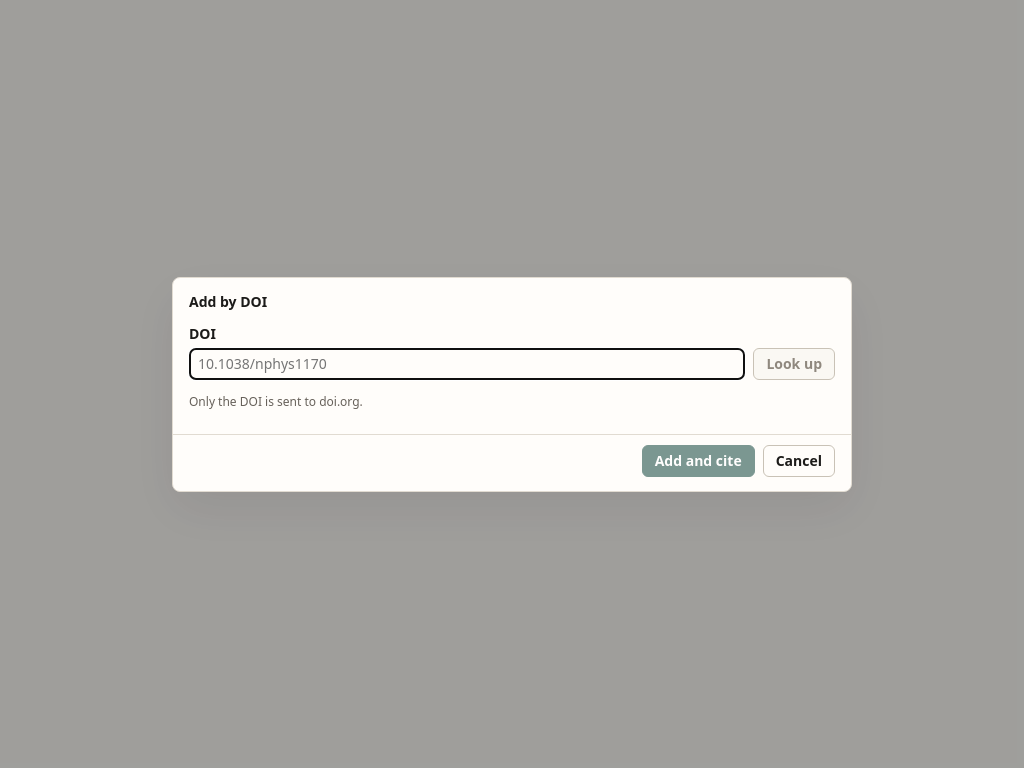
DoiDialog › shows lookup errors and adds nothing
In the field labelled "DOI": (467, 364) [189, 348, 745, 380], type "10.1/x"
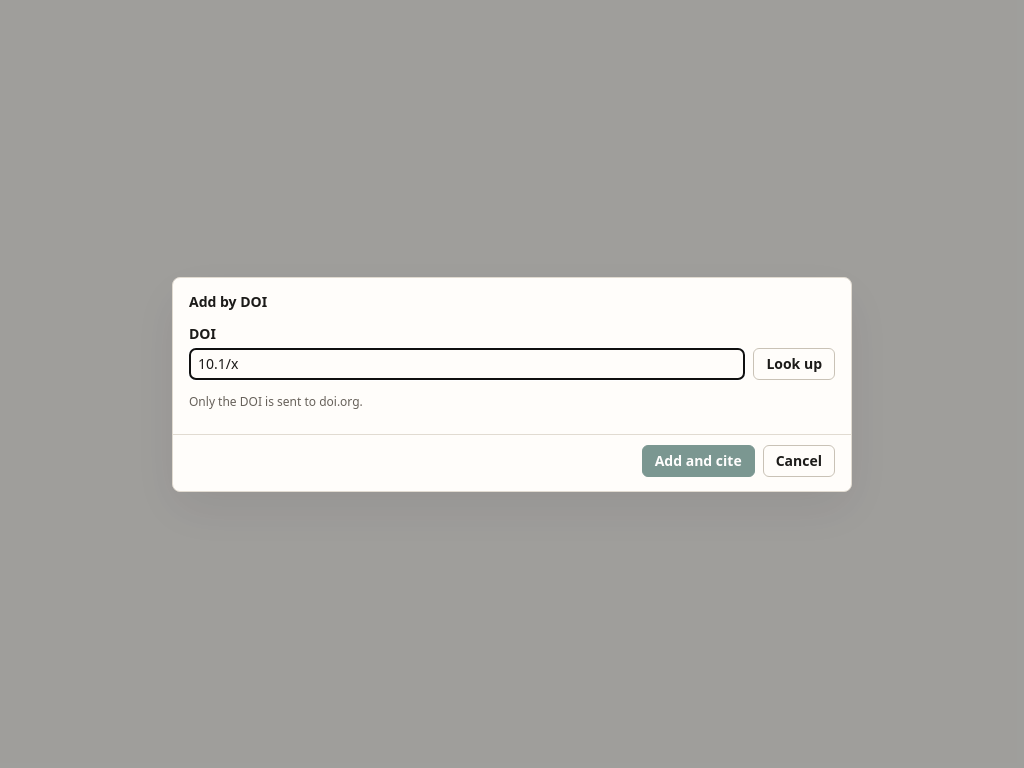
Submit the form "DOI", box [189, 324, 835, 380]
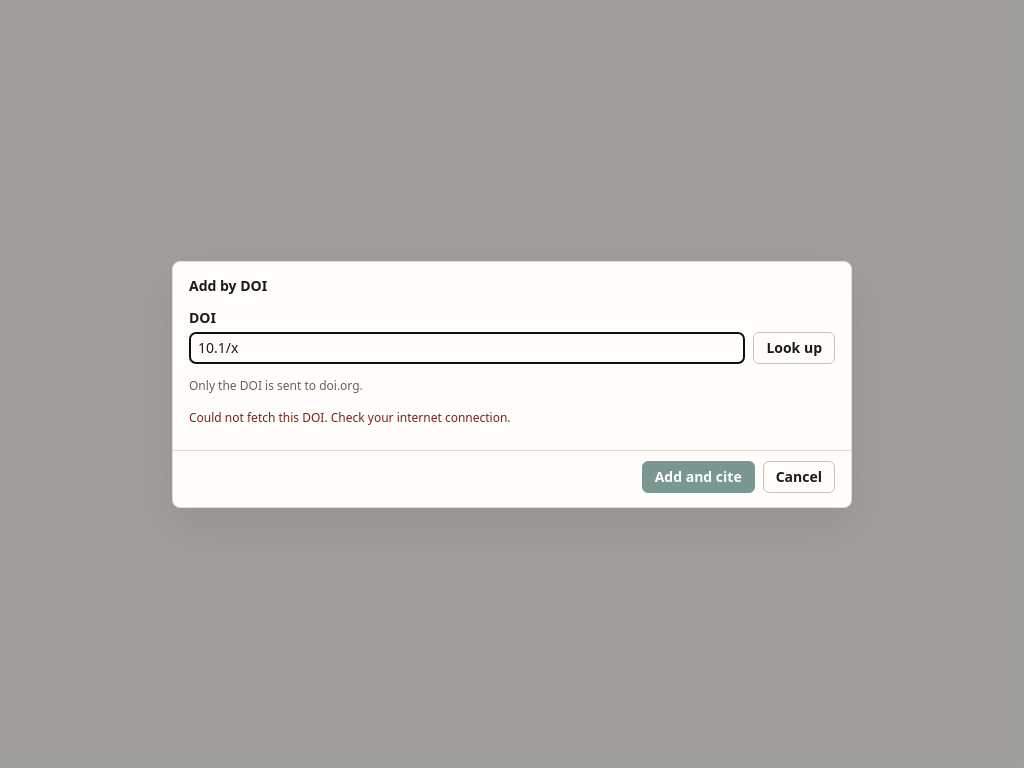
Expected: the button "Add and cite" is disabled, [642, 460, 755, 492]
Now the message shows "Could not fetch this DOI", box [189, 408, 511, 426]
